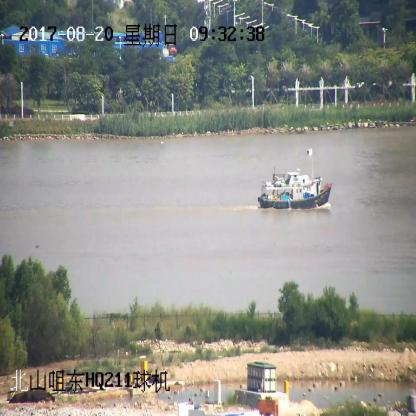Fishing Boat: (257, 168, 332, 209)
